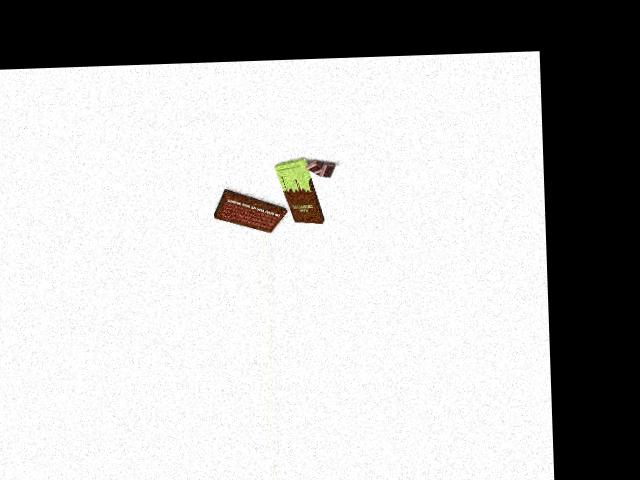chocolate: (277, 155, 319, 226)
